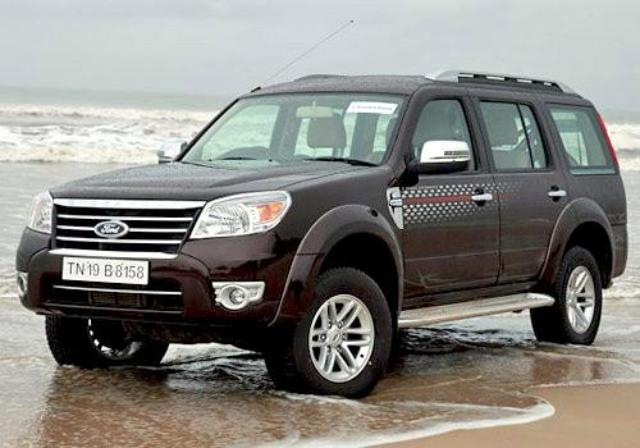ford: (17, 19, 629, 400)
